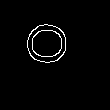O_E: (30, 28, 79, 72)
